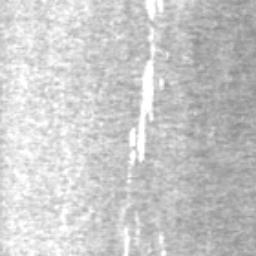White rust: (128, 26, 157, 166), (143, 0, 164, 22), (122, 223, 132, 256), (134, 212, 145, 237), (159, 230, 166, 244), (160, 78, 166, 91), (127, 172, 133, 183), (160, 249, 167, 256)
